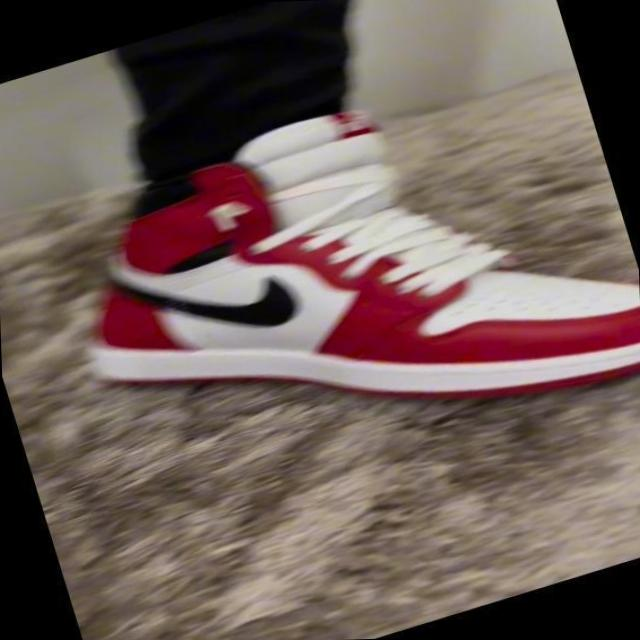nike_fake_jordan: (43, 42, 640, 523)
